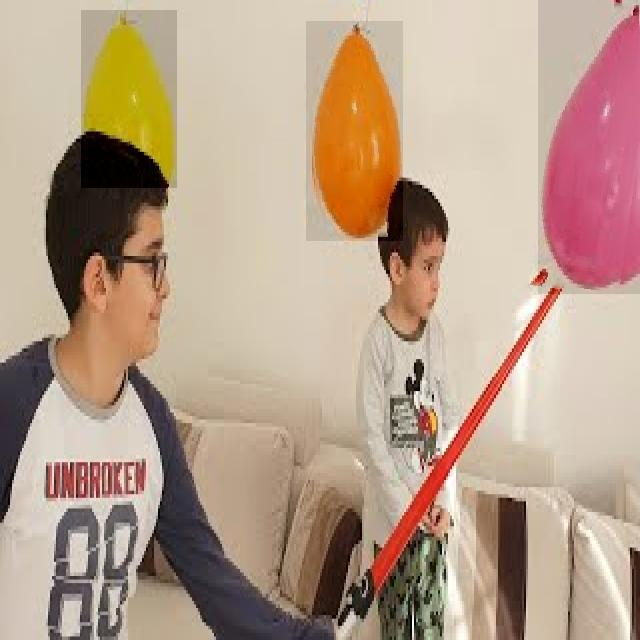balloon: (538, 0, 640, 294), (306, 21, 403, 241), (81, 10, 177, 188)
